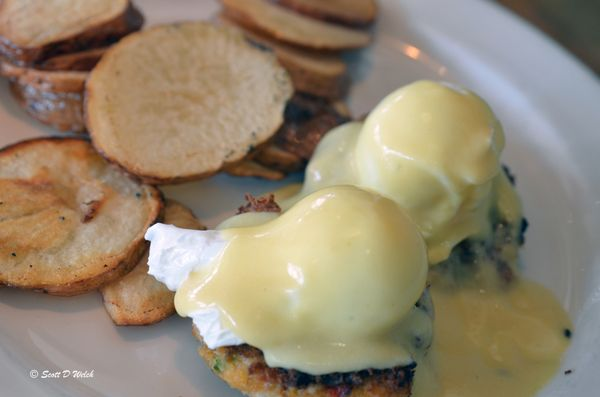soup: (86, 20, 294, 184)
